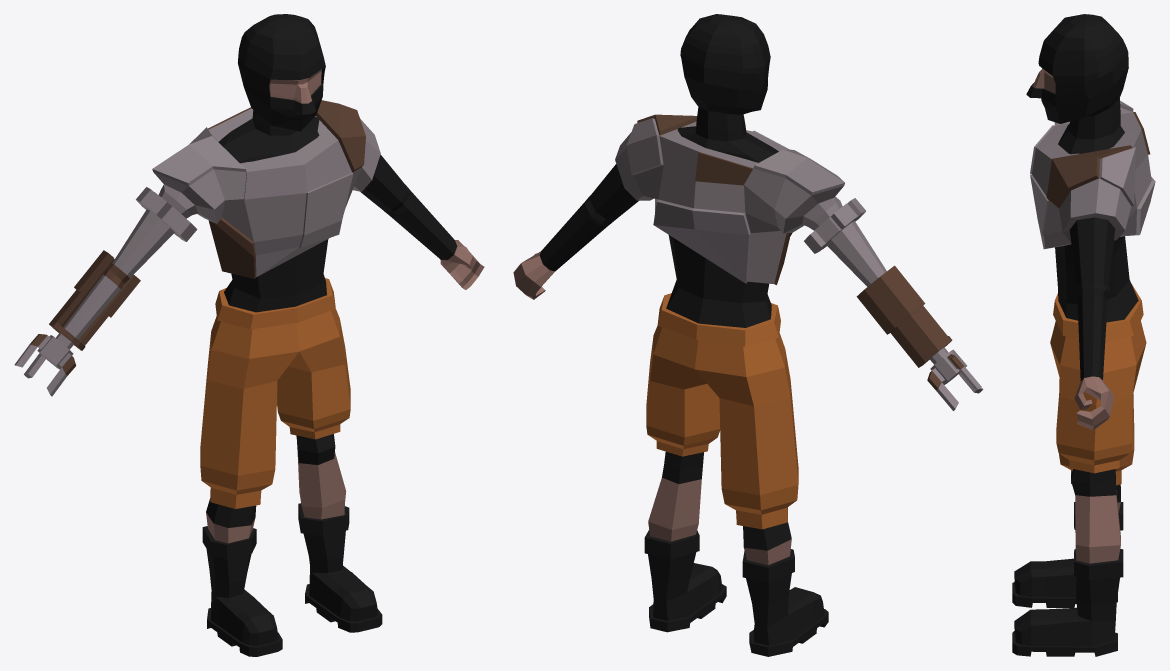
File: Player (1).fbx
The picture shows the model from 3 angles, left to right: view 1: azimuth 30°, elevation 25°; view 2: azimuth 150°, elevation 25°; view 3: azimuth 270°, elevation 25°; orthographic projection. The views are drawn at different scales.
Visible parts, largest first — view 1: Circle.006; view 2: Circle.006; view 3: Circle.006.
Part boxes in pixels (<box>): Circle.006: <box>14,14,484,656</box>; Circle.006: <box>513,14,983,656</box>; Circle.006: <box>1012,14,1155,656</box>.
Bounding box in the file's own units: 1.51 × 1.87 × 0.4019.
